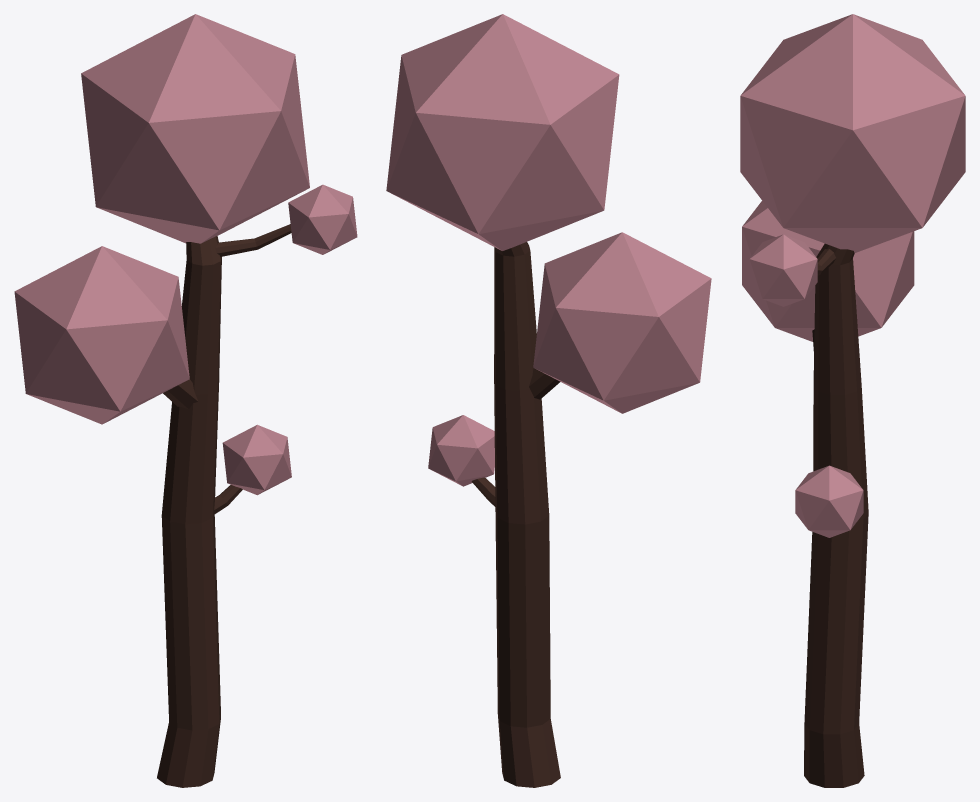
Rendered from Tree_Pink_vc.fbx.
3 views of the same model, side by side, from view 1: azimuth 30°, elevation 25°; view 2: azimuth 150°, elevation 25°; view 3: azimuth 270°, elevation 25° (orthographic). The views are drawn at different scales.
Parts seen in each view (by area): view 1: Tree_Pink_vc; view 2: Tree_Pink_vc; view 3: Tree_Pink_vc.
Part boxes in pixels (box(x1,y1,x2,y2)): Tree_Pink_vc: box(14, 14, 357, 787); Tree_Pink_vc: box(386, 14, 711, 787); Tree_Pink_vc: box(740, 14, 965, 787).
Size of the model in its own units: 590 by 1383 by 366.
